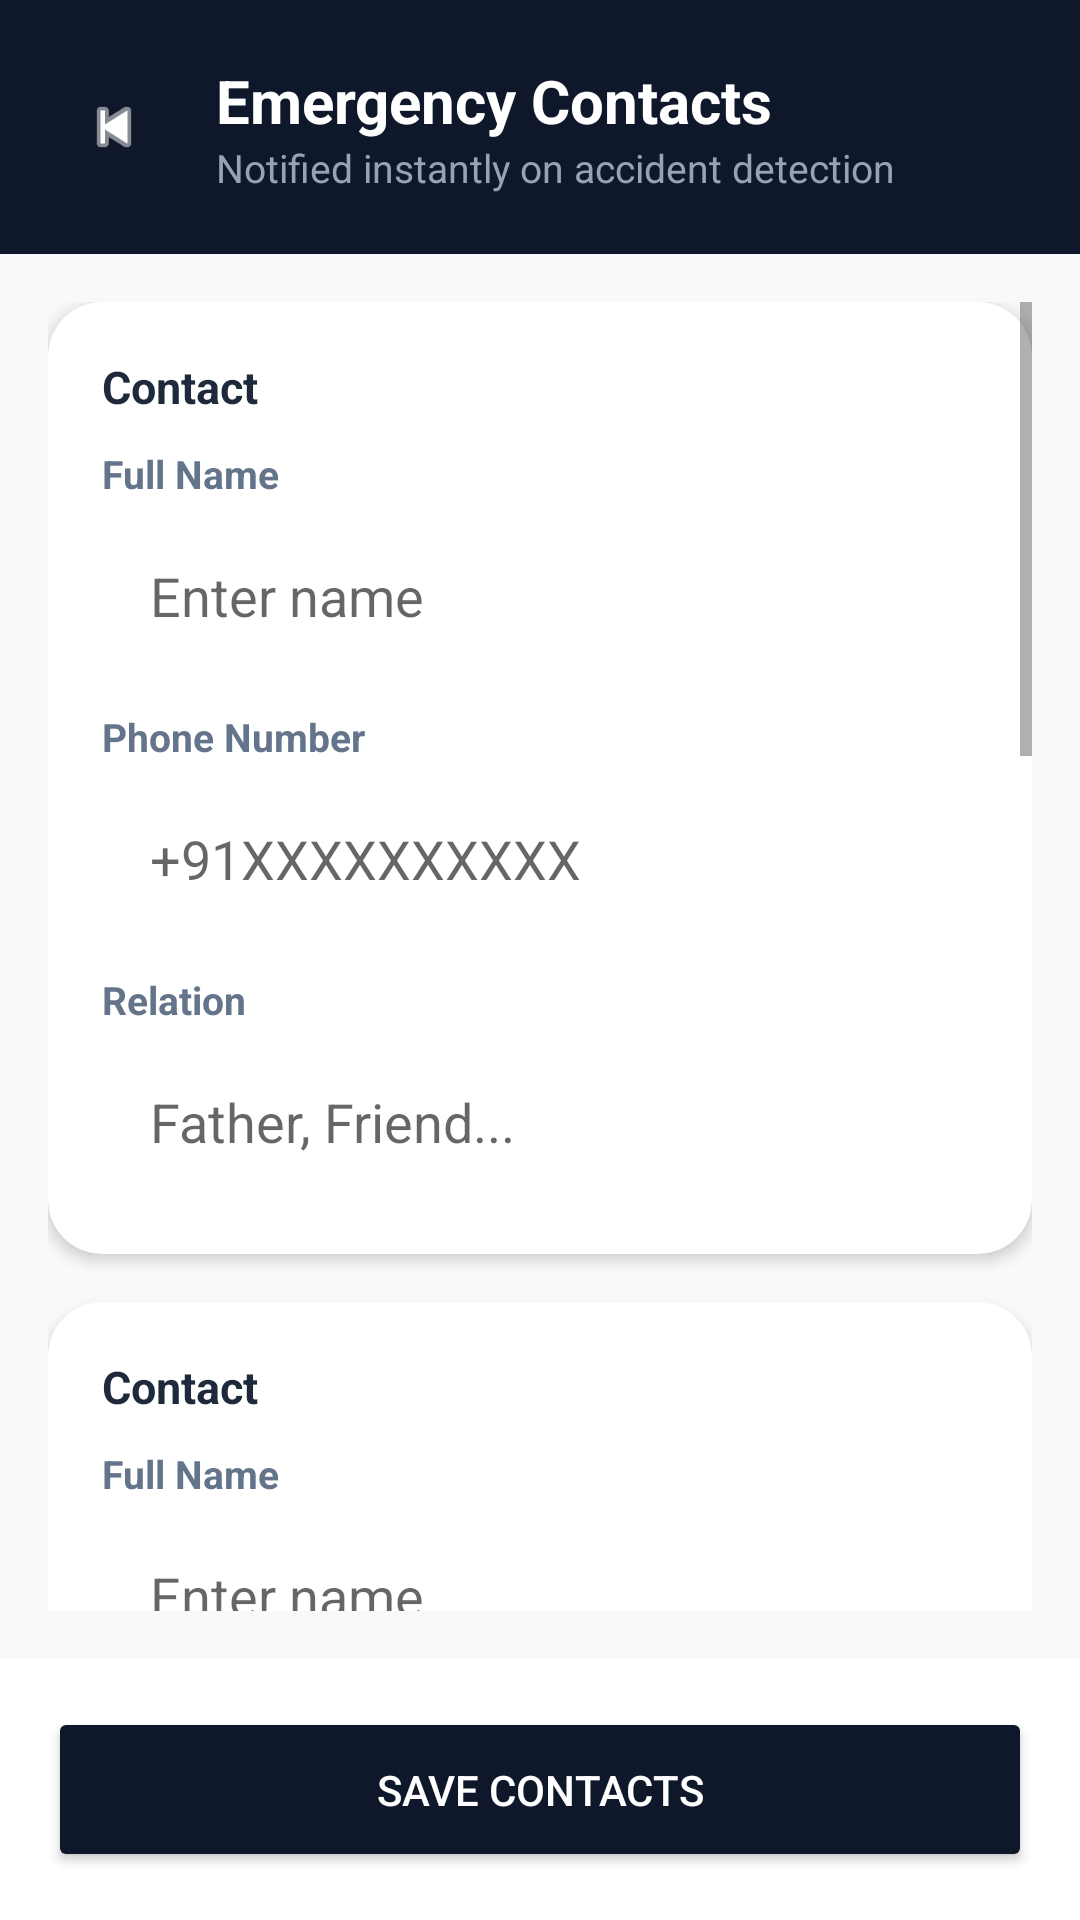

Where icons sit on this 1080w x 1920h app screen, as bbox=(x1, y1, x2, y2):
Back: bbox=(97, 107, 131, 147)
